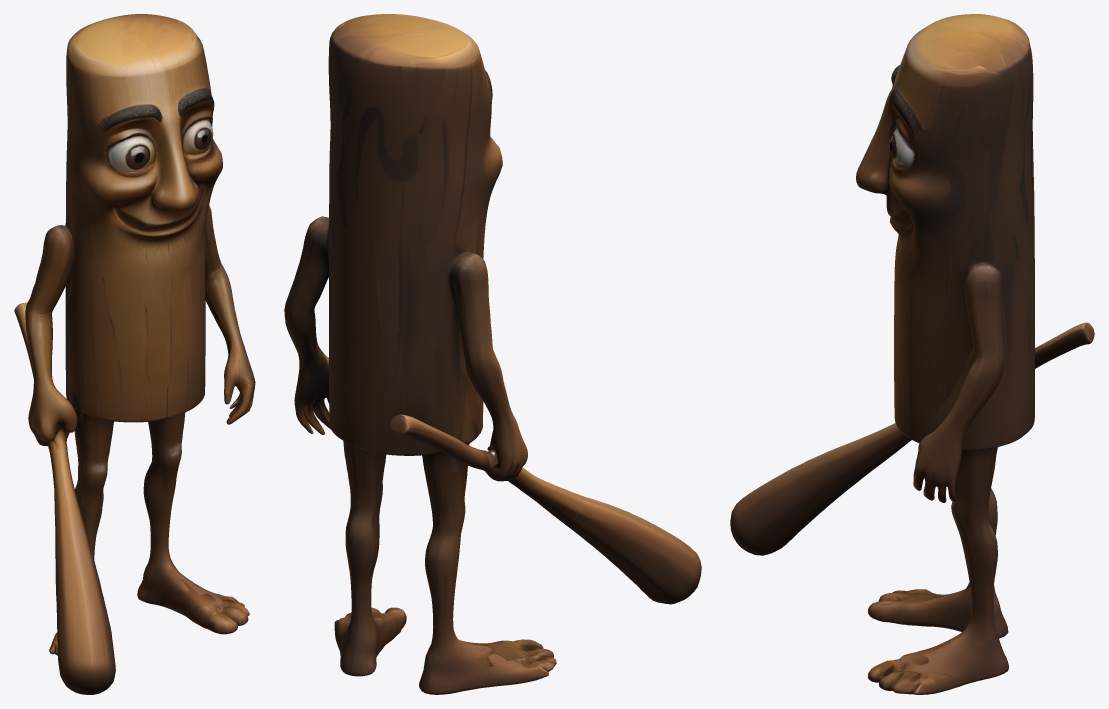
File: tungtung.gltf
3 renders of one model, left to right at view 1: azimuth 30°, elevation 25°; view 2: azimuth 150°, elevation 25°; view 3: azimuth 270°, elevation 25°, orthographic. The views are drawn at different scales.
Parts seen in each view (by area): view 1: model.001; view 2: model.001; view 3: model.001.
Boxes of the visible parts, x1,y1,x2,y2 form: model.001: (14,14,255,694); model.001: (284,14,701,694); model.001: (730,14,1094,694).
Bounding box in the file's own units: 7.04 × 14.15 × 7.54.
Materials: 1 (1 with a texture image).
